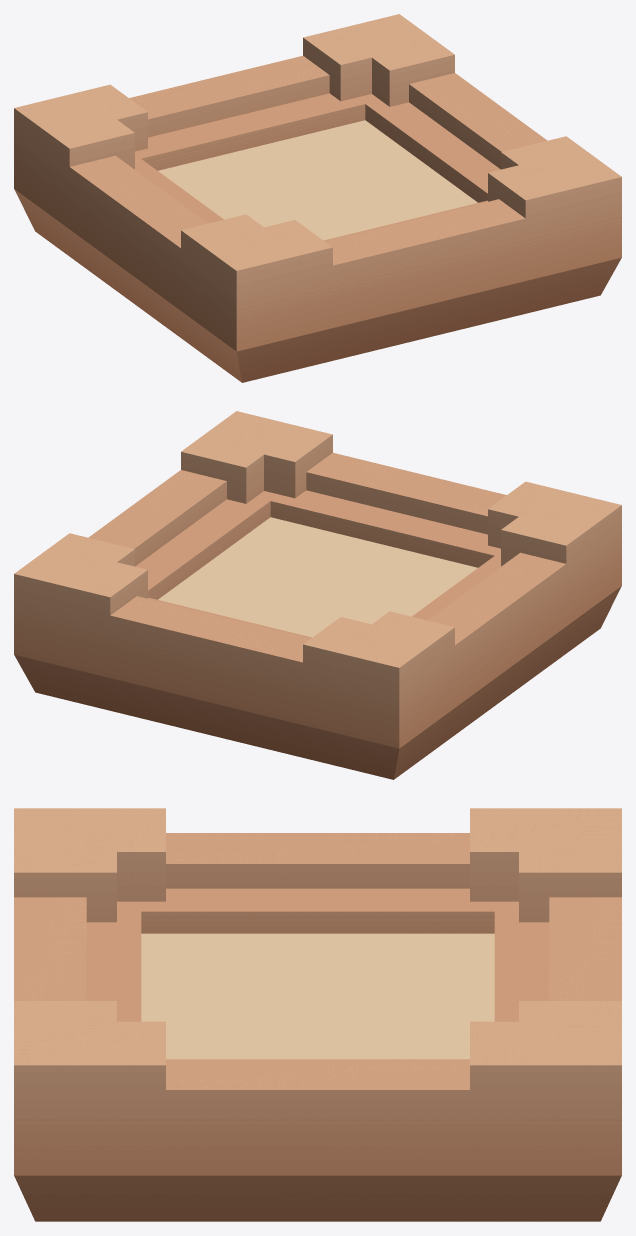
The model's file is tower-square-top.glb.
3 renders of one model, top to bottom at view 1: azimuth 30°, elevation 25°; view 2: azimuth 150°, elevation 25°; view 3: azimuth 270°, elevation 25°, orthographic. The views are drawn at different scales.
Visible parts, largest first — view 1: tower-square-top; view 2: tower-square-top; view 3: tower-square-top.
Part boxes in pixels (x1,y1,x2,y2): tower-square-top: (14, 14, 621, 382); tower-square-top: (14, 411, 621, 779); tower-square-top: (14, 808, 621, 1221).
Bounding box in the file's own units: 1 × 0.3 × 1.
Materials: 1 (1 with a texture image).
